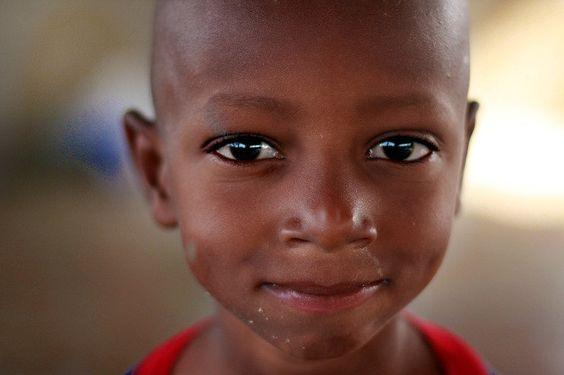Healthy: (111, 1, 522, 373)
